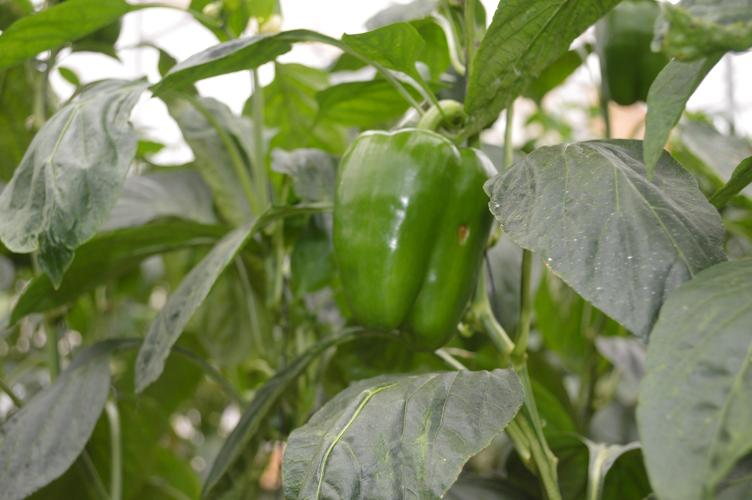BellPepper: (314, 120, 494, 366)
